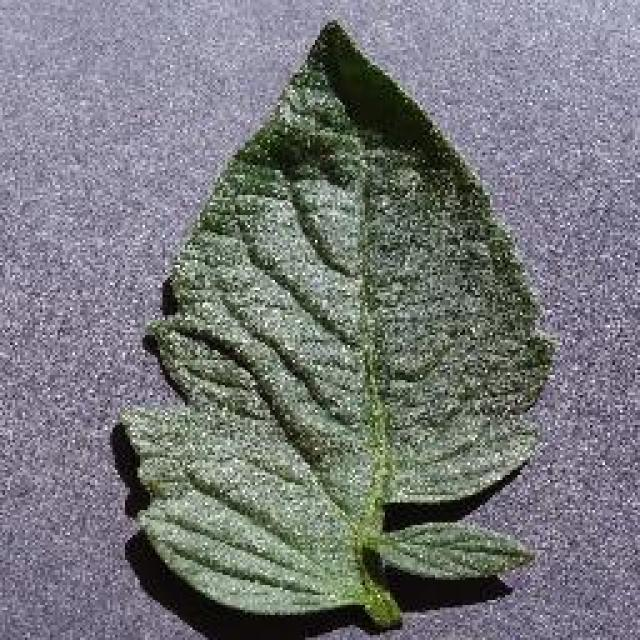Tomato_Healthy: (107, 11, 563, 630)
